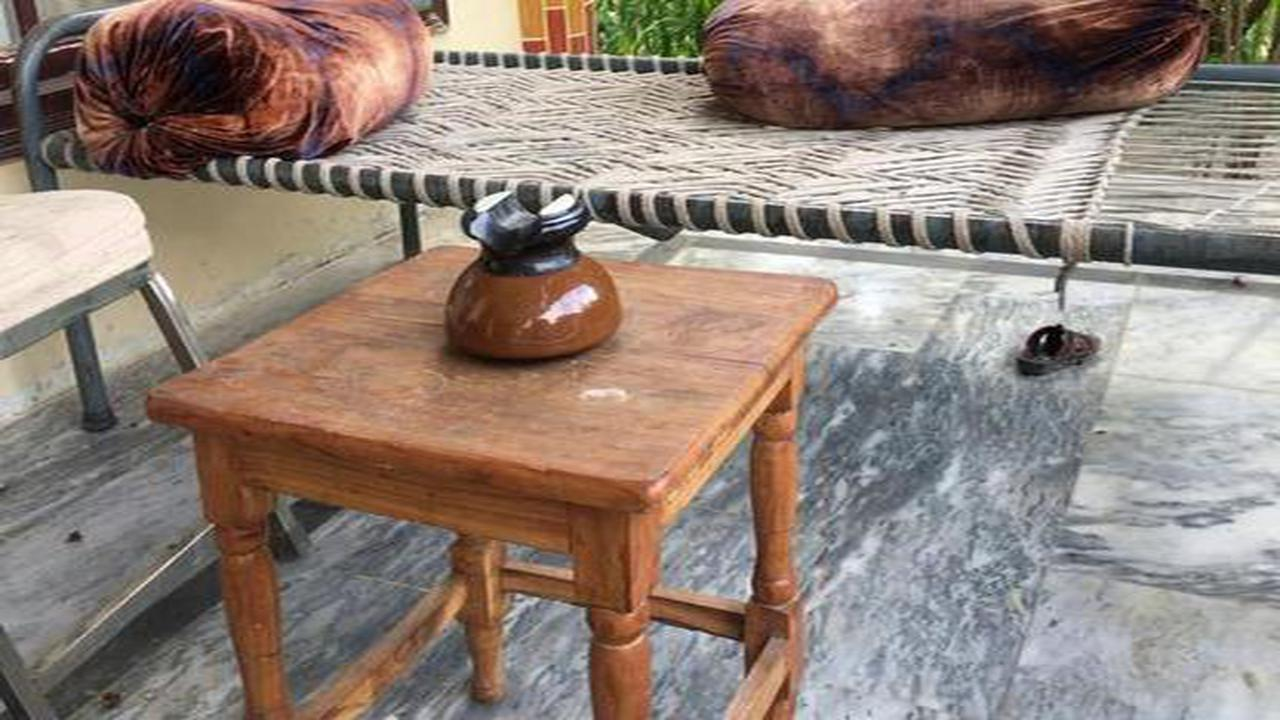insulator_pin: (422, 168, 641, 373)
